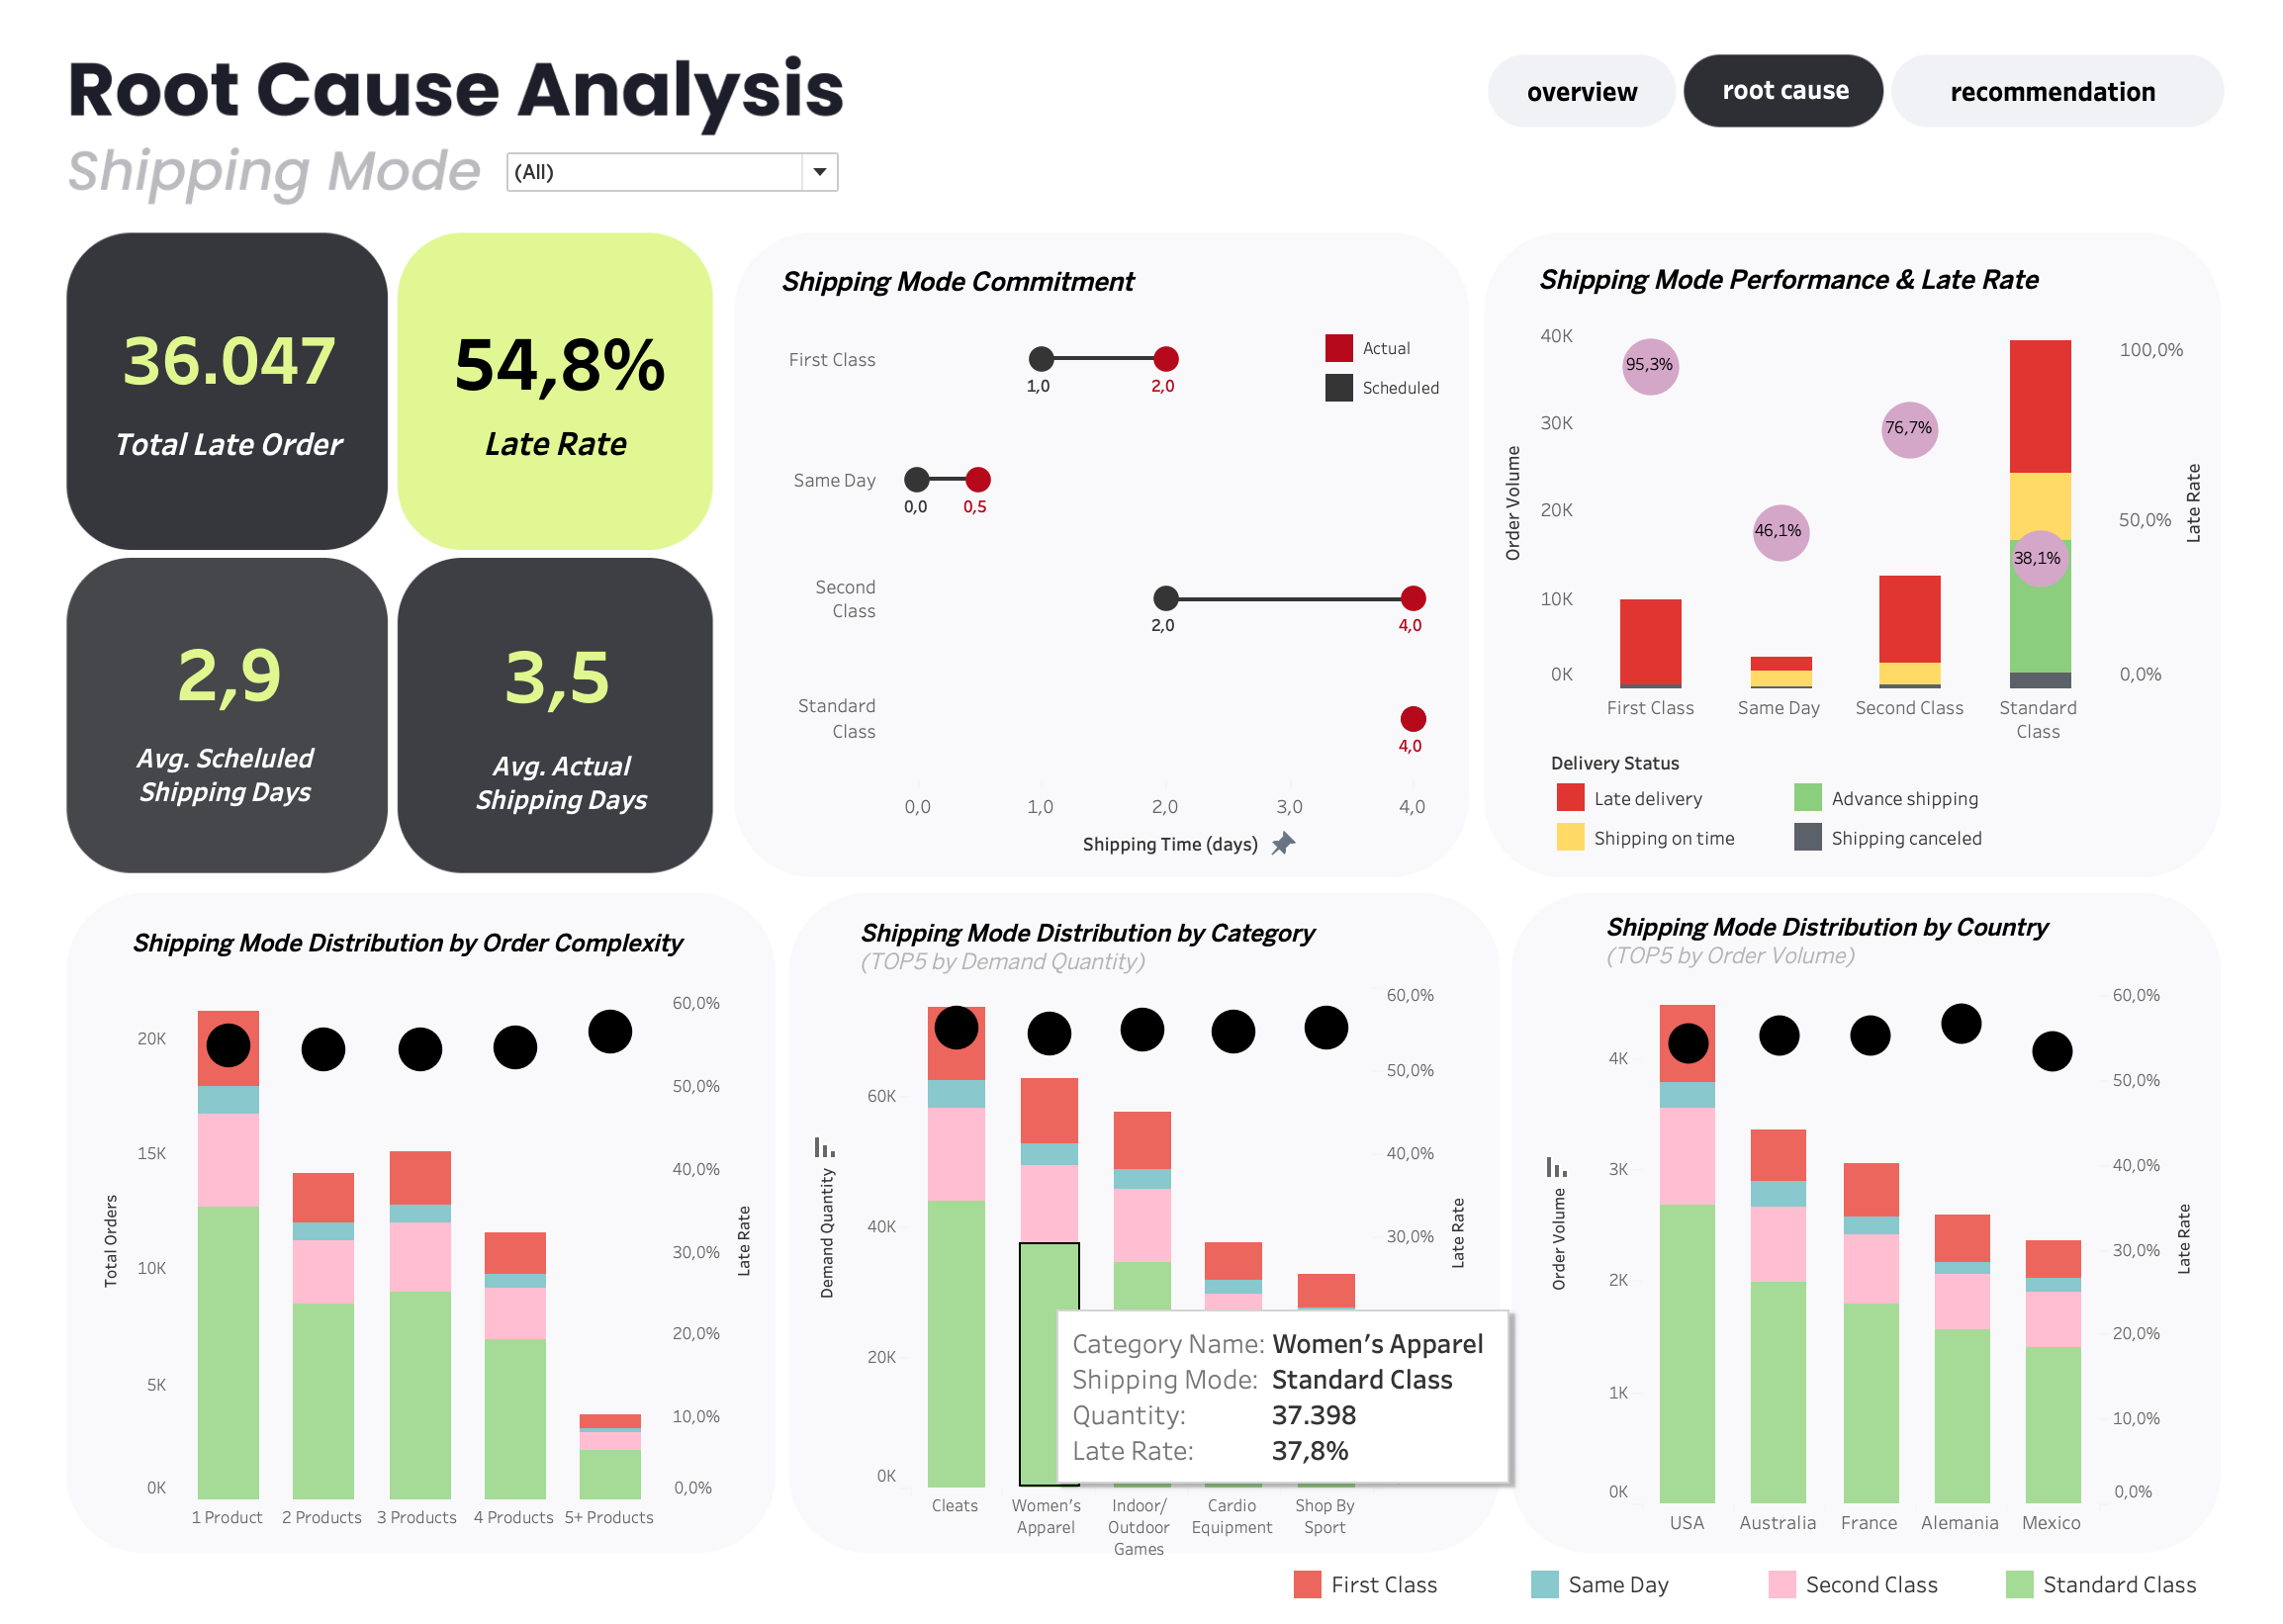

The dashboard page shown, as its layout file describes it:
{"tool":"tableau","page":{"name":"root cause","canvas":[1169,827],"ordinal":2},"visuals":[{"type":"image","param":"Image/rootcause@2x.png","box":[0,0,1169,827]},{"type":"dashboard-object","box":[752,32,109,52]},{"type":"dashboard-object","box":[967,32,155,52]},{"type":"text","box":[870,42,78,30]},{"type":"filter","title":"Complexity","param":"[federated.0n7d3741qxccu314g811g052moyb].[none:shipping_mode:nk]","box":[259,86,174,27]},{"type":"text","box":[781,139,313,30]},{"type":"text","box":[398,140,186,30]},{"type":"worksheet","title":"Commitment","mark":"Circle","rows":["shipping_mode"],"cols":["days_for_shipping_scheduled"],"box":[398,163,344,282]},{"type":"worksheet","title":"KPI - Late Rate","mark":"Automatic","box":[228,170,125,56]},{"type":"worksheet","title":"KPI - Late Order","mark":"Automatic","box":[61,171,135,46]},{"type":"worksheet","title":"Performance","mark":"Bar","rows":["Calculation_2420642270371840","Calculation_2420642270912515"],"cols":["shipping_mode"],"box":[757,175,364,225]},{"type":"legend","title":"Commitment","param":"[federated.0n7d3741qxccu314g811g052moyb].[:Measure Names]","box":[673,178,78,66]},{"type":"text","box":[41,218,161,37]},{"type":"text","box":[208,219,158,33]},{"type":"worksheet","title":"KPI - Avg. Scheduled","mark":"Automatic","box":[73,327,99,60]},{"type":"worksheet","title":"KPI - Avg. Actual","mark":"Automatic","box":[240,328,80,63]},{"type":"text","box":[41,386,158,35]},{"type":"text","box":[211,390,158,35]},{"type":"legend","title":"Performance","param":"[federated.0n7d3741qxccu314g811g052moyb].[none:delivery_status:nk]","box":[790,391,339,59]},{"type":"text","box":[815,473,231,30]},{"type":"text","box":[70,474,286,30]},{"type":"text","box":[438,476,237,31]},{"type":"worksheet","title":"Dual Country","mark":"Automatic","rows":["Calculation_2420642270371840","Calculation_2420642270912515"],"cols":["country"],"box":[781,507,341,285]},{"type":"worksheet","title":"Dual Cate","mark":"Automatic","rows":["quantity","Calculation_2420642270912515"],"cols":["category_name"],"box":[411,509,345,295]},{"type":"worksheet","title":"Complexity","mark":"Automatic","rows":["Calculation_2420642270371840","Calculation_2420642270912515"],"cols":["Calculation_2763071751110657"],"box":[49,511,338,299]}]}

Visuals, with their boxes in screenshot pixels (x1, y1, x2, y2), scaled from the page's 1169x827 canvas onto the 2283x1624 screenshot:
image: x1=0, y1=0, x2=2282, y2=1623
dashboard-object: x1=1469, y1=63, x2=1682, y2=165
dashboard-object: x1=1888, y1=63, x2=2191, y2=165
text: x1=1699, y1=82, x2=1852, y2=141
"Complexity" filter: x1=505, y1=169, x2=846, y2=222
text: x1=1525, y1=273, x2=2137, y2=332
text: x1=777, y1=275, x2=1141, y2=334
"Commitment" worksheet (Circle marks): x1=777, y1=320, x2=1449, y2=874
"KPI - Late Rate" worksheet: x1=445, y1=334, x2=689, y2=444
"KPI - Late Order" worksheet: x1=119, y1=336, x2=383, y2=426
"Performance" worksheet (Bar marks): x1=1479, y1=343, x2=2189, y2=785
"Commitment" legend: x1=1315, y1=349, x2=1467, y2=479
text: x1=80, y1=428, x2=395, y2=500
text: x1=407, y1=430, x2=715, y2=495
"KPI - Avg. Scheduled" worksheet: x1=142, y1=642, x2=336, y2=760
"KPI - Avg. Actual" worksheet: x1=469, y1=644, x2=625, y2=767
text: x1=80, y1=758, x2=389, y2=827
text: x1=412, y1=766, x2=721, y2=835
"Performance" legend: x1=1543, y1=767, x2=2205, y2=883
text: x1=1592, y1=929, x2=2043, y2=988
text: x1=137, y1=931, x2=695, y2=990
text: x1=856, y1=935, x2=1319, y2=996
"Dual Country" worksheet: x1=1525, y1=996, x2=2191, y2=1556
"Dual Cate" worksheet: x1=802, y1=1000, x2=1477, y2=1579
"Complexity" worksheet: x1=96, y1=1004, x2=756, y2=1590
